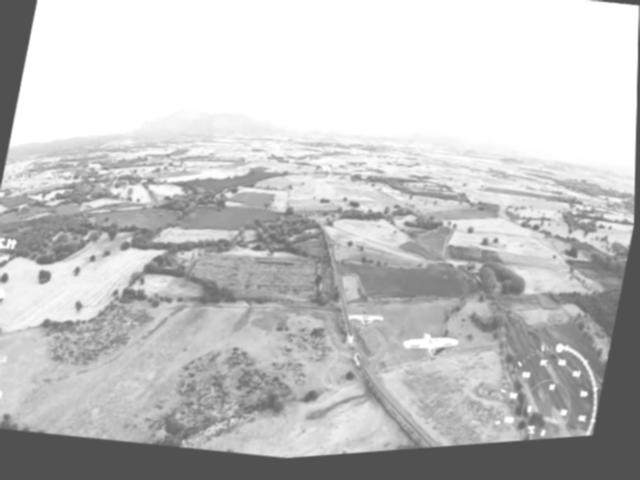hedef: (389, 321, 474, 384)
